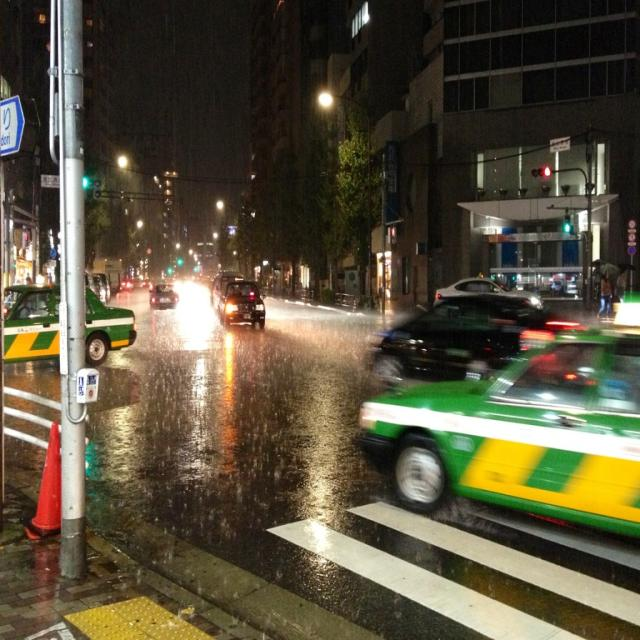car: (207, 272, 263, 330)
